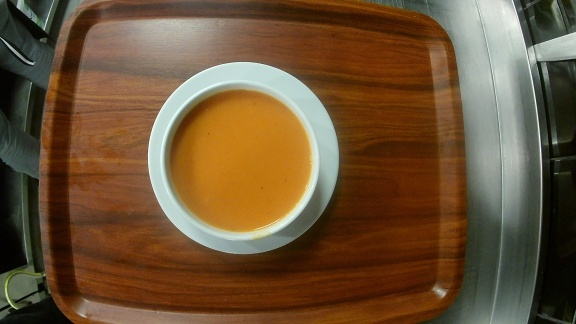domatescorba: (146, 61, 340, 255)
